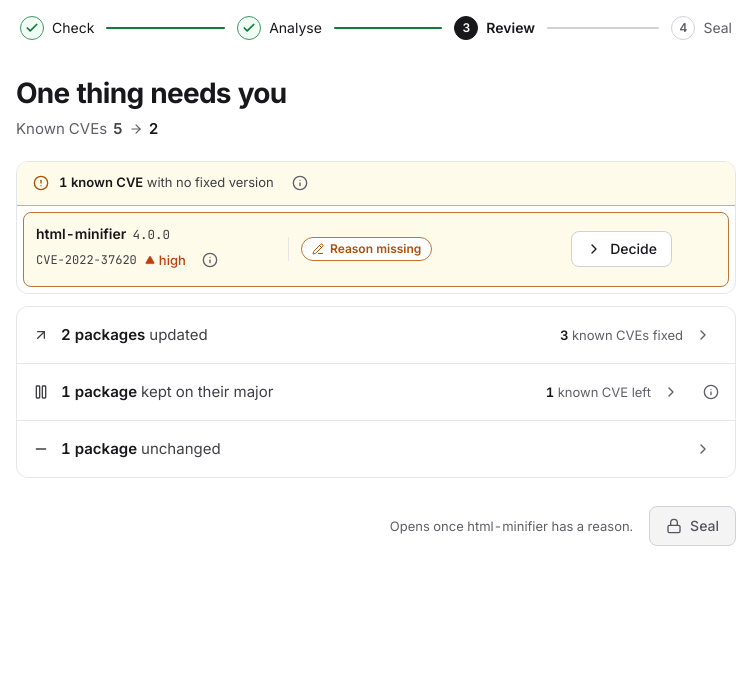
ReviewScreen › opens a group in place with its version changes
Expected: the 2nd text "3" is shown, [560, 326, 568, 342]
Expected: the text "lodash" is not shown
Click the button "2 packages updated 3 known CVEs fixed" at (103, 334), box [17, 307, 727, 363]
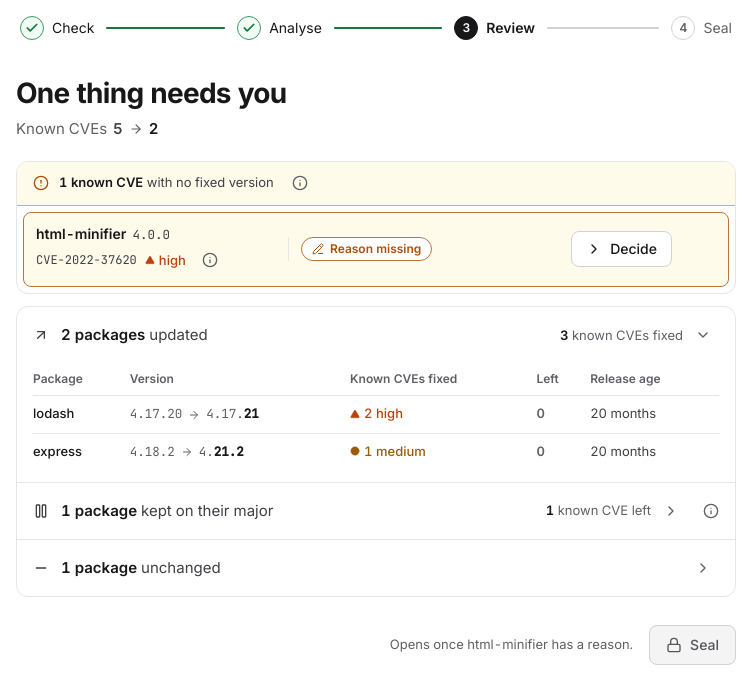
Result: the button "2 packages updated 3 known CVEs fixed" is expanded at [17, 307, 727, 363]
Result: the text "21" is shown at [244, 405, 259, 422]
Result: the text "2 high" is shown at [350, 404, 403, 424]
